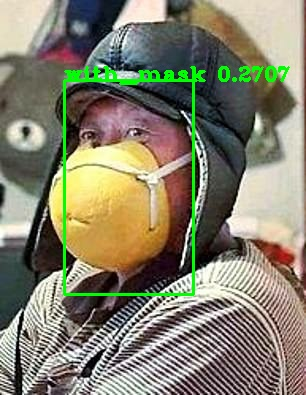with_mask: (52, 89, 200, 265)
